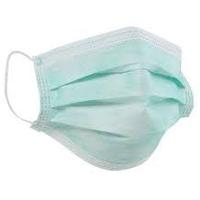flu mask: (32, 25, 194, 173)
